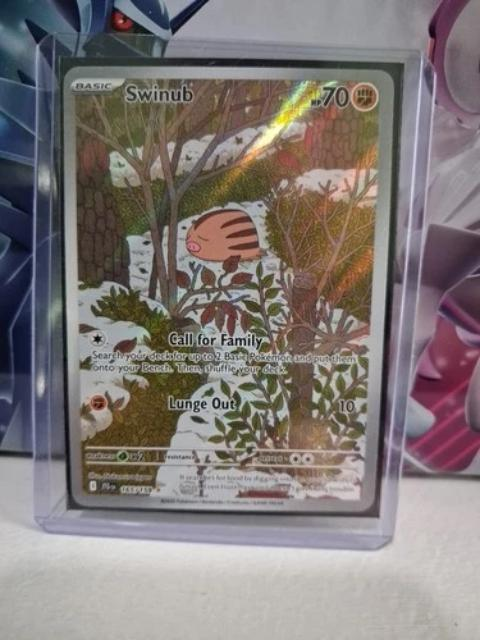Card: (55, 59, 399, 515)
Name: (118, 78, 195, 105)
